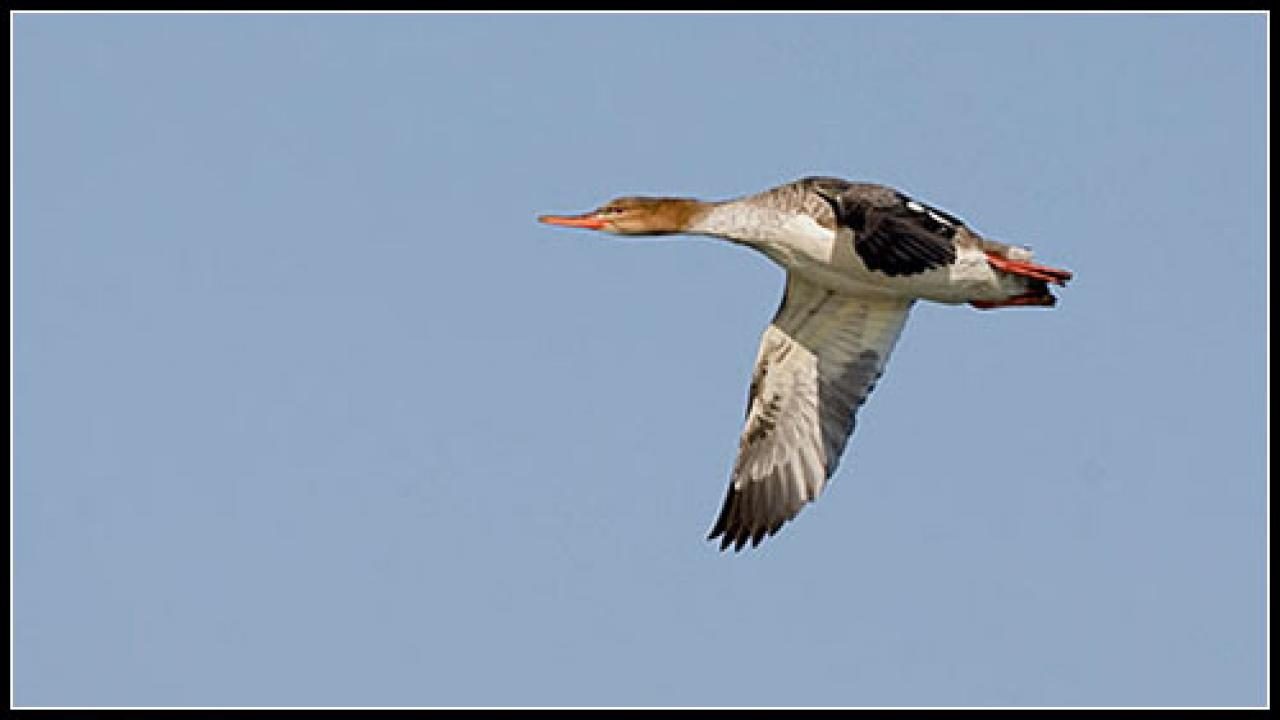Bird: (524, 160, 1086, 572)
